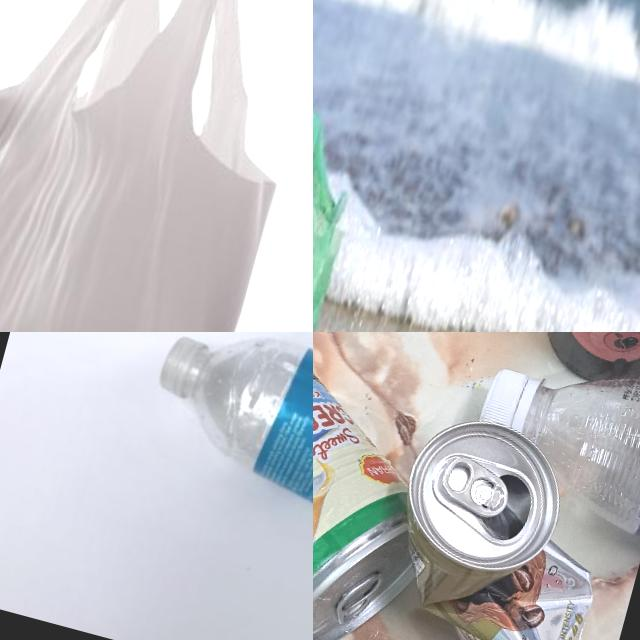aba de lata: (436, 452, 514, 520), (334, 565, 383, 631)
garrafa plástica: (168, 332, 313, 593), (502, 344, 640, 543)
lata: (364, 406, 629, 640), (313, 332, 470, 640)
sacola plástica: (0, 0, 313, 332)
tampa plástica: (154, 332, 212, 403), (478, 366, 536, 434)
